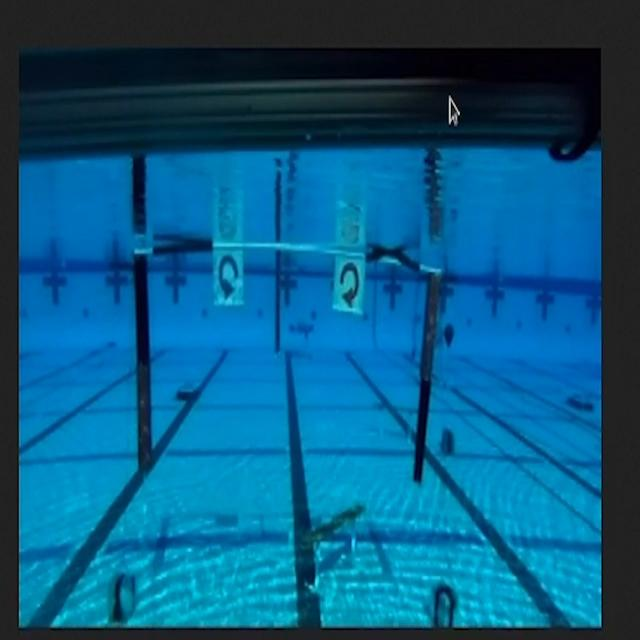Gate: (126, 228, 442, 490)
